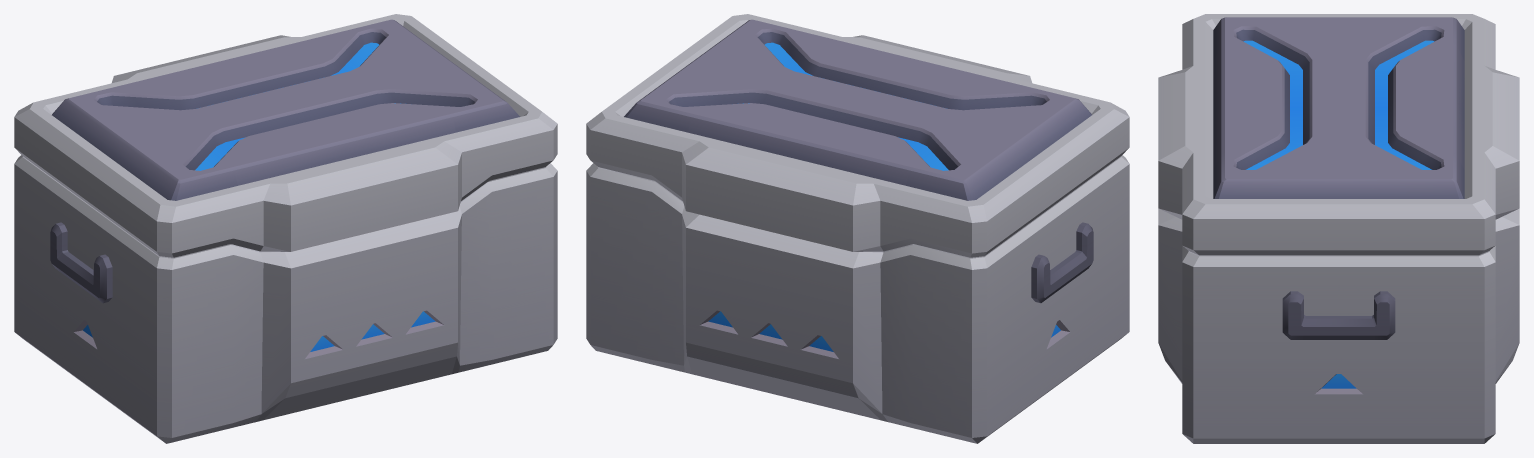
Rendered from AmmoBox B.fbx.
The picture shows the model from 3 angles, left to right: view 1: azimuth 30°, elevation 25°; view 2: azimuth 150°, elevation 25°; view 3: azimuth 270°, elevation 25°; orthographic projection. The views are drawn at different scales.
Parts seen in each view (by area): view 1: Ammo Box B, Ammo Box B.001; view 2: Ammo Box B, Ammo Box B.001; view 3: Ammo Box B.001, Ammo Box B.
Part boxes in pixels (x1,y1,x2,y2): Ammo Box B: [14, 155, 557, 443]; Ammo Box B.001: [14, 14, 557, 257]; Ammo Box B: [586, 155, 1129, 443]; Ammo Box B.001: [586, 14, 1129, 257]; Ammo Box B.001: [1158, 14, 1519, 255]; Ammo Box B: [1158, 208, 1519, 443].
Bounding box in the file's own units: 0.7908 × 0.4403 × 0.5755.
